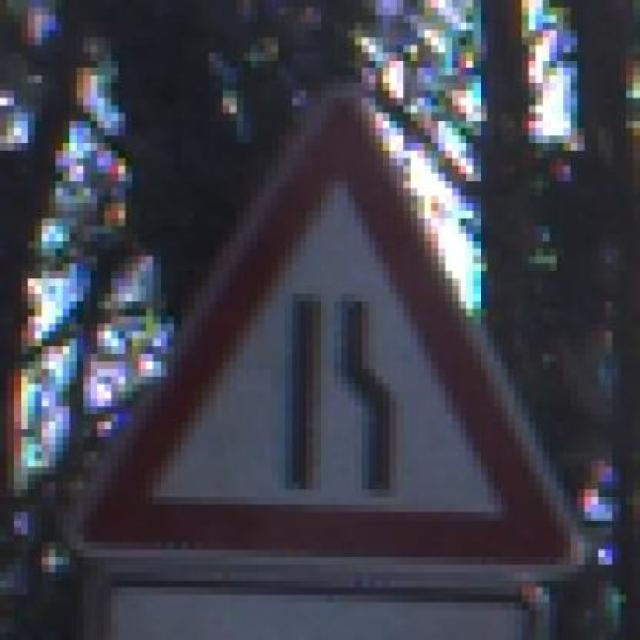-Road narrows on right: (57, 75, 606, 602)
